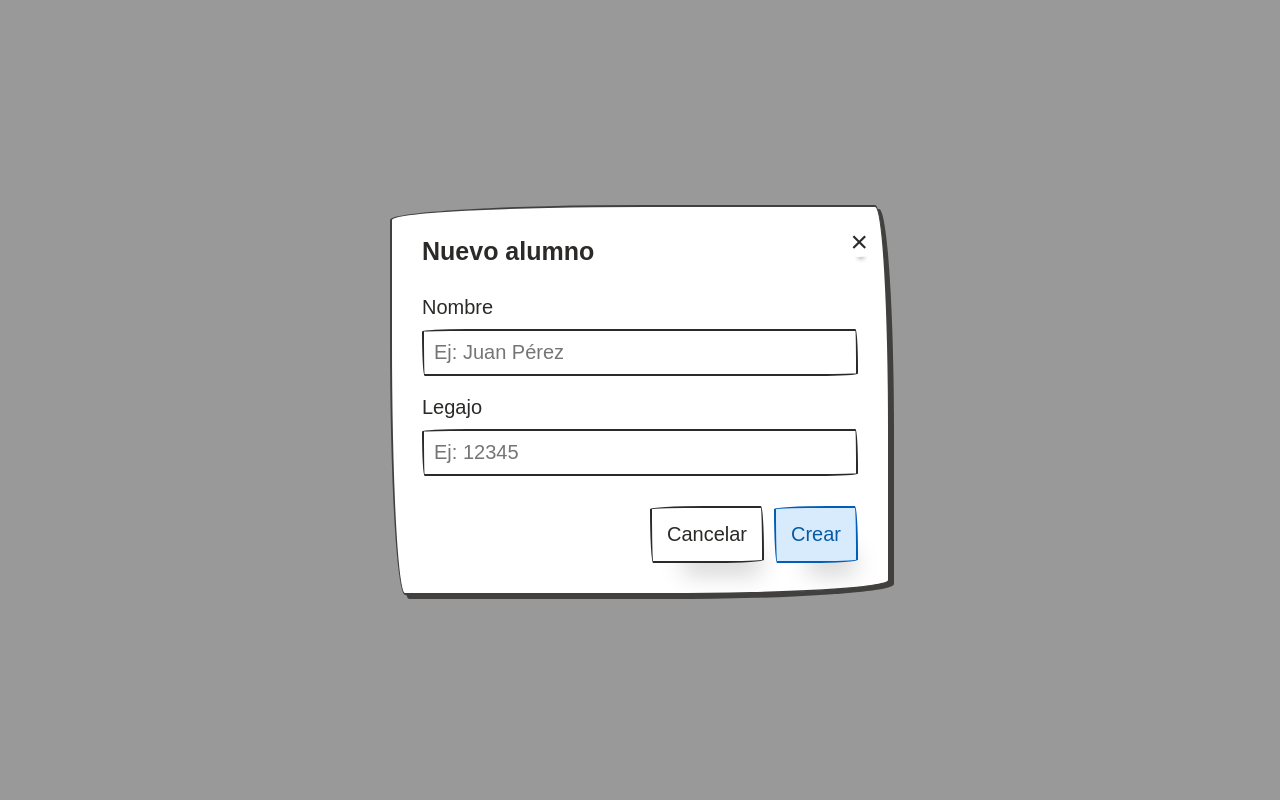
Scenario: rejects an empty name
Click the button with test id "submit-btn" at (816, 534), box x1=774 y1=506 x2=858 y2=563
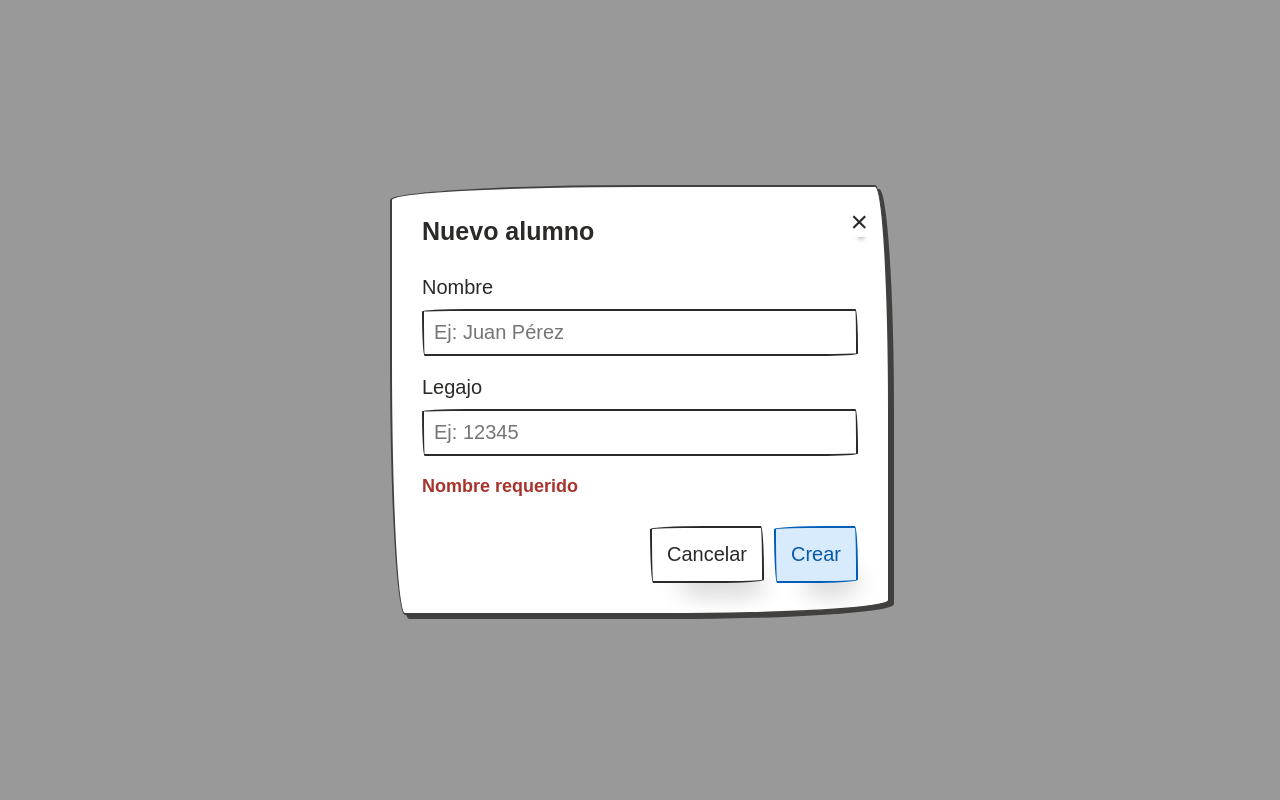
Check: the message "Nombre requerido" is shown, box x1=422 y1=476 x2=578 y2=496
